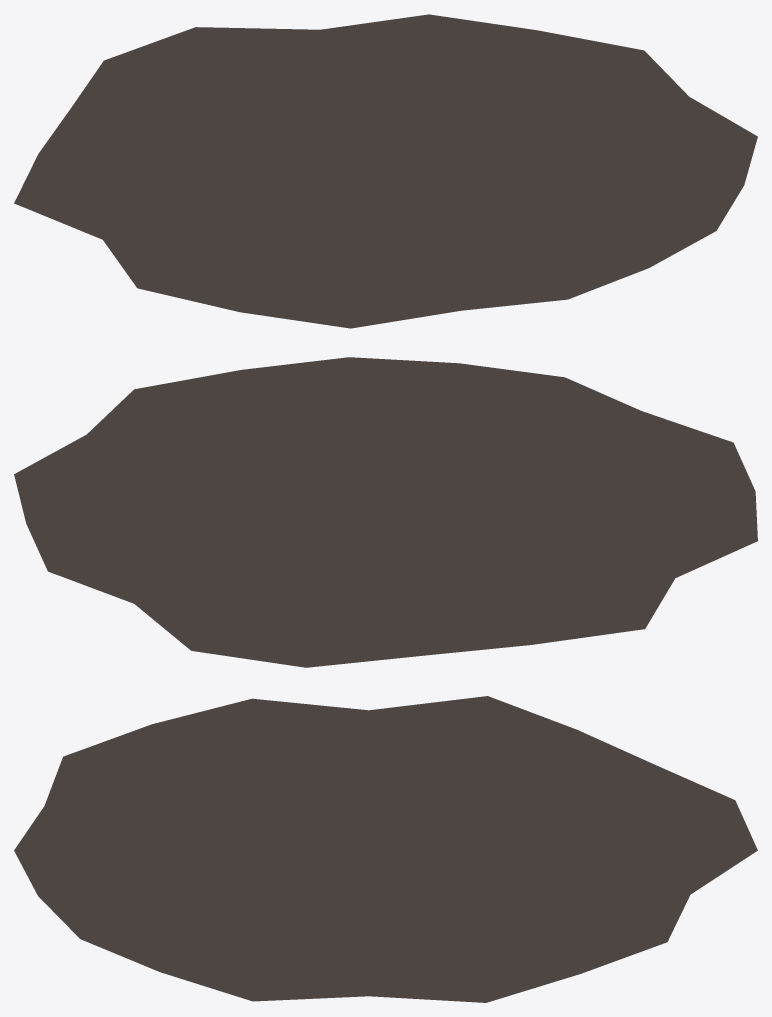
Rendered from SM_Souq_Puddle.fbx.
The picture shows the model from 3 angles, top to bottom: view 1: azimuth 30°, elevation 25°; view 2: azimuth 150°, elevation 25°; view 3: azimuth 270°, elevation 25°; orthographic projection.
Visible parts, largest first — view 1: SM_Souq_Puddle; view 2: SM_Souq_Puddle; view 3: SM_Souq_Puddle.
Boxes of the visible parts, x1,y1,x2,y2 form: SM_Souq_Puddle: (14, 14, 757, 328); SM_Souq_Puddle: (14, 357, 757, 667); SM_Souq_Puddle: (14, 696, 757, 1002).
Bounding box in the file's own units: 99.38 × 0 × 102.
Materials: 1 (1 with a texture image).
